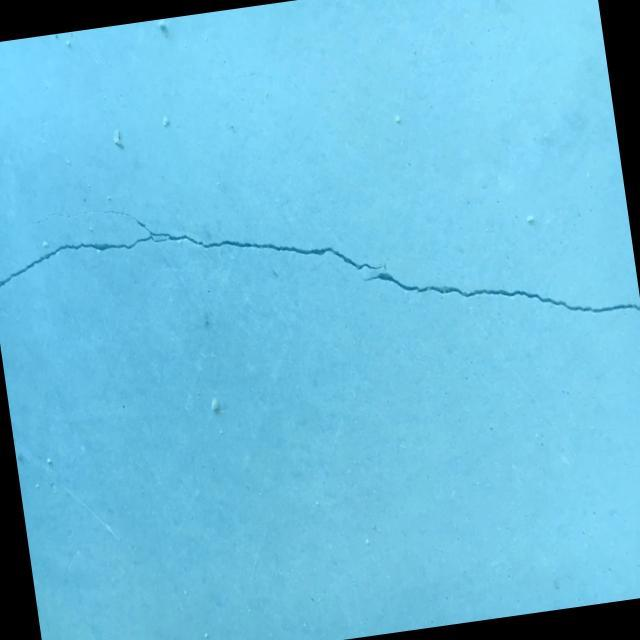crack: (0, 135, 640, 400)
